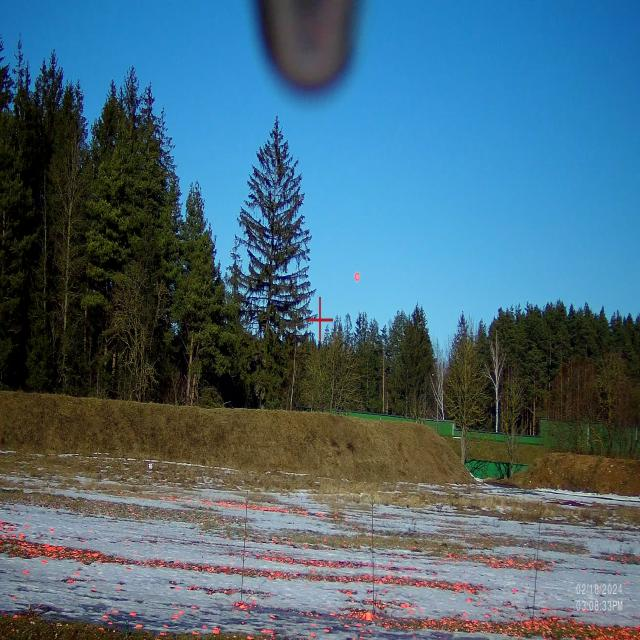entire: (352, 269, 364, 284)
